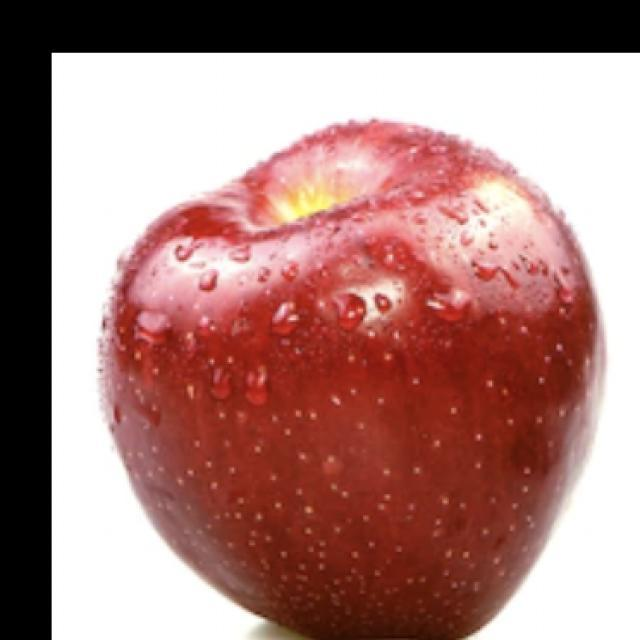Fresh Apple: (92, 114, 608, 640)
